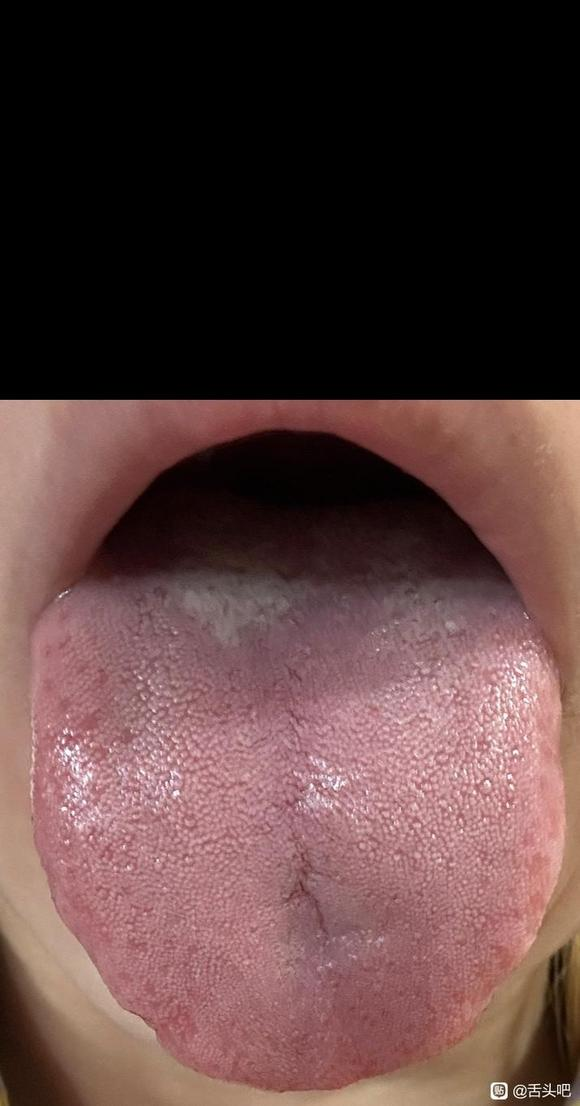baitaishe: (28, 491, 566, 1093)
liewenshe: (275, 664, 328, 935)
pangdashe: (26, 489, 564, 1091)
